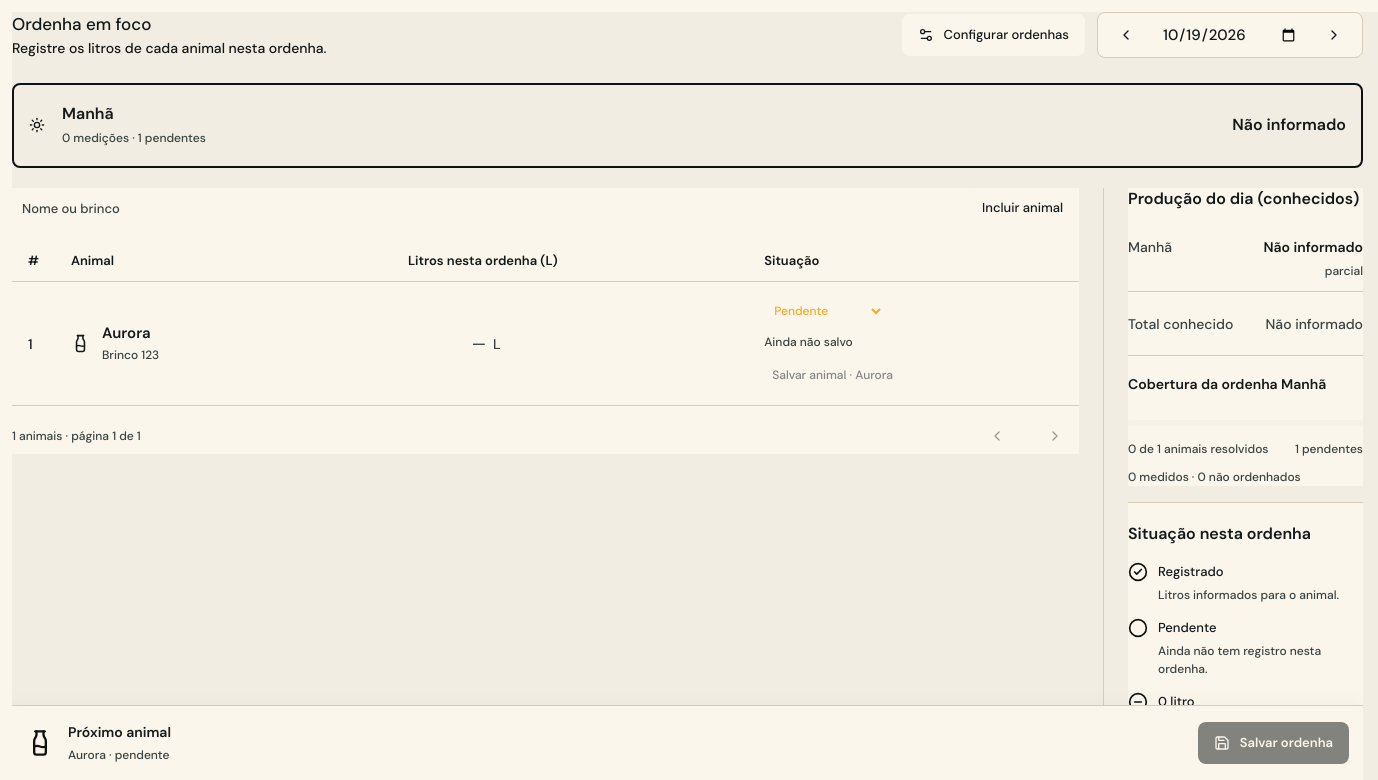
Test: Folha de ordenha › bloqueia números inválidos em vez de salvar o valor válido anterior
Type "2" into the field named "Litros de Aurora, brinco 123" at [460, 344], box [408, 323, 513, 365]
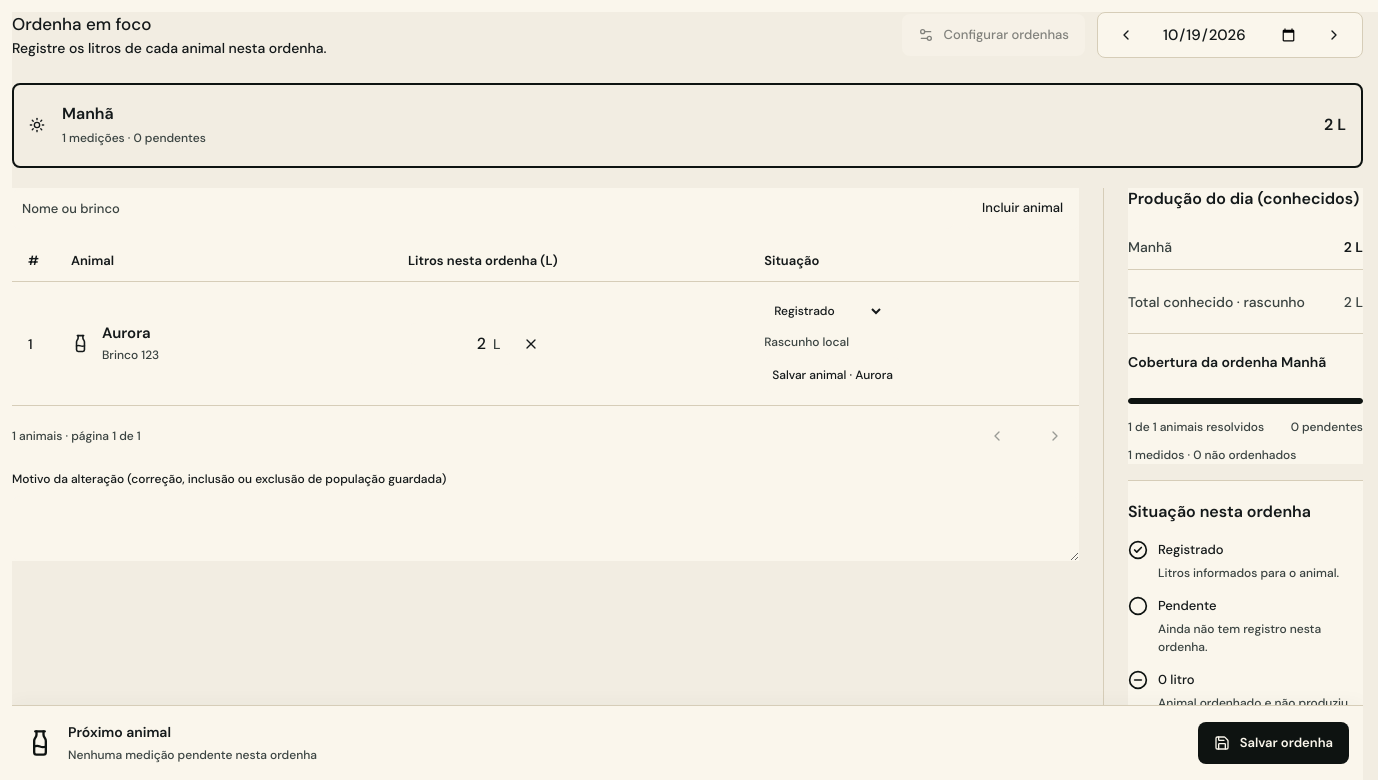
Replace the text in the field named "Litros de Aurora, brinco 123" with "-2" at [460, 344], box [408, 323, 513, 365]
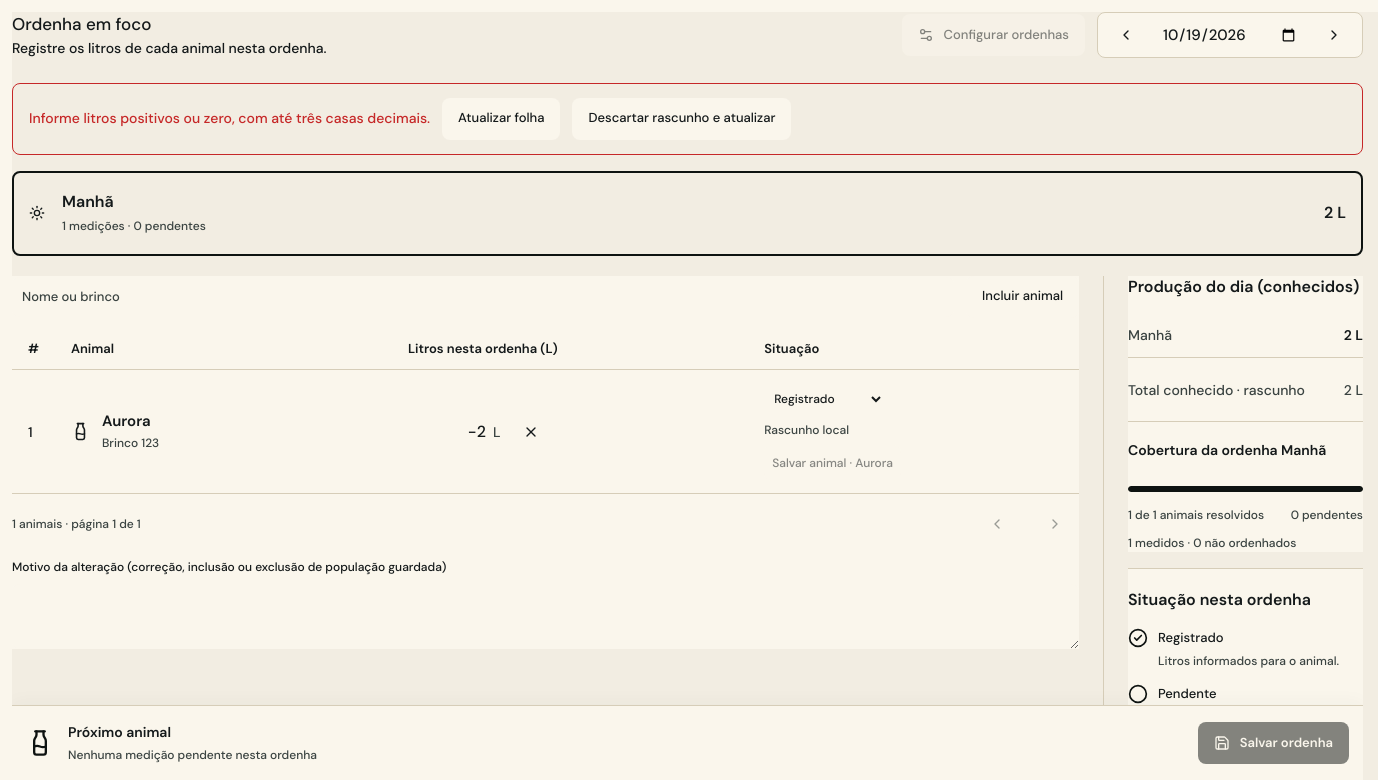
Now the button "Salvar ordenha" is disabled, box [1198, 722, 1349, 764]
